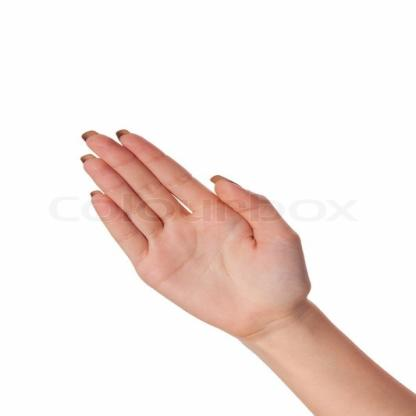palm: (49, 115, 351, 343)
